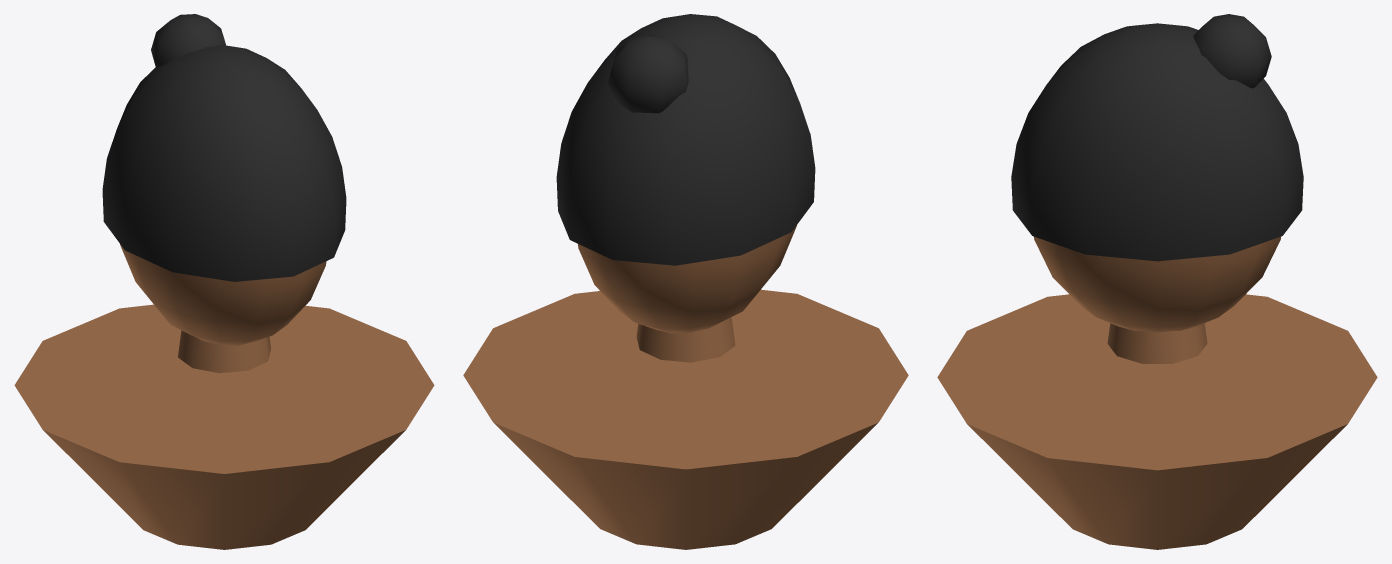
File: portrait08t_003.glb
The picture shows the model from 3 angles, left to right: view 1: azimuth 30°, elevation 25°; view 2: azimuth 150°, elevation 25°; view 3: azimuth 270°, elevation 25°; orthographic projection. The views are drawn at different scales.
Bounding box in the file's own units: 1.85 × 2.27 × 1.85.
